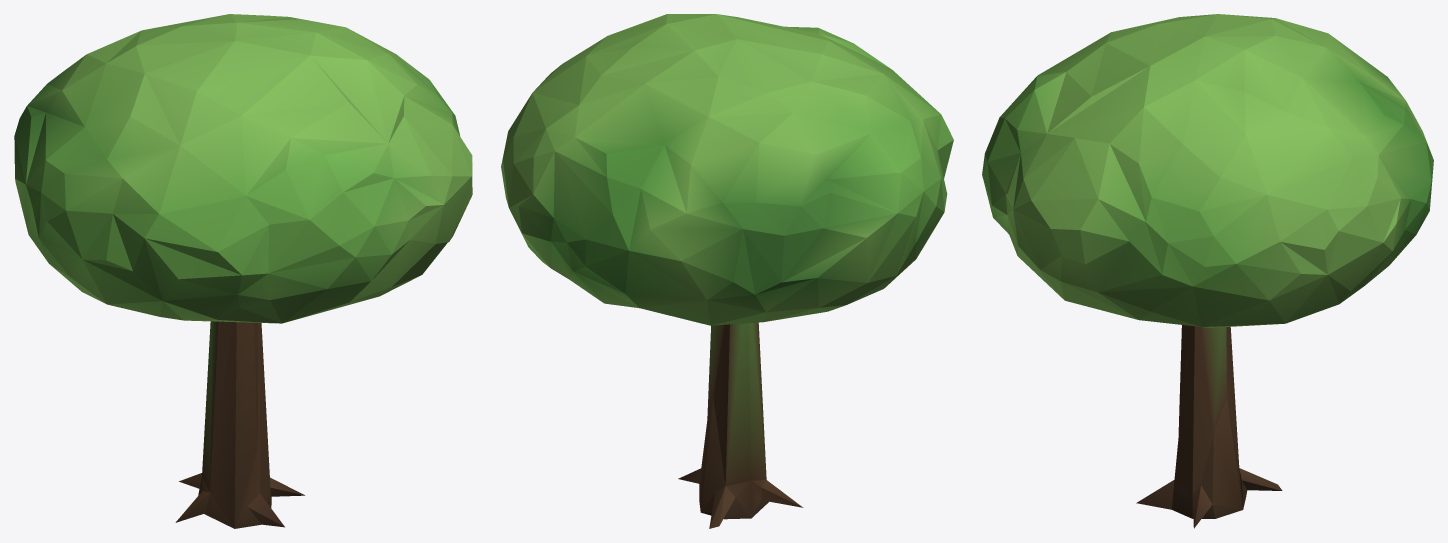
The model's file is broadleaf_mature_large_wide_dense_far.glb.
3 renders of one model, left to right at view 1: azimuth 30°, elevation 25°; view 2: azimuth 150°, elevation 25°; view 3: azimuth 270°, elevation 25°, orthographic.
Parts seen in each view (by area): view 1: broadleaf_mature_large_wide_dense_LOD3; view 2: broadleaf_mature_large_wide_dense_LOD3; view 3: broadleaf_mature_large_wide_dense_LOD3.
Boxes of the visible parts, x1=… form: broadleaf_mature_large_wide_dense_LOD3: x1=14, y1=14, x2=472, y2=528; broadleaf_mature_large_wide_dense_LOD3: x1=501, y1=14, x2=953, y2=528; broadleaf_mature_large_wide_dense_LOD3: x1=982, y1=14, x2=1433, y2=528.
Size of the model in its own units: 5.87 by 6.54 by 5.72.
